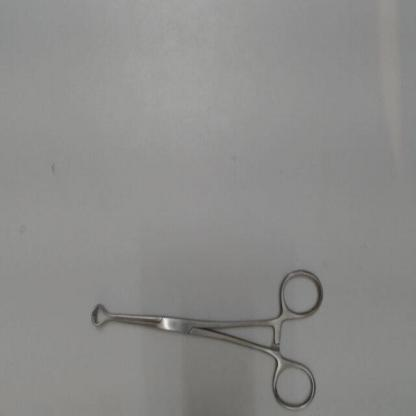Babcock Tissue Forceps: (86, 262, 328, 415)
